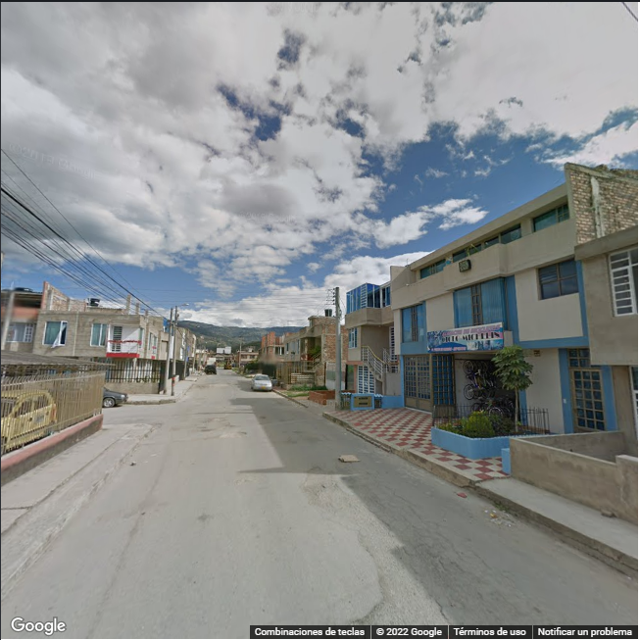D00: (397, 544, 454, 627), (494, 568, 542, 616), (460, 540, 494, 568)
